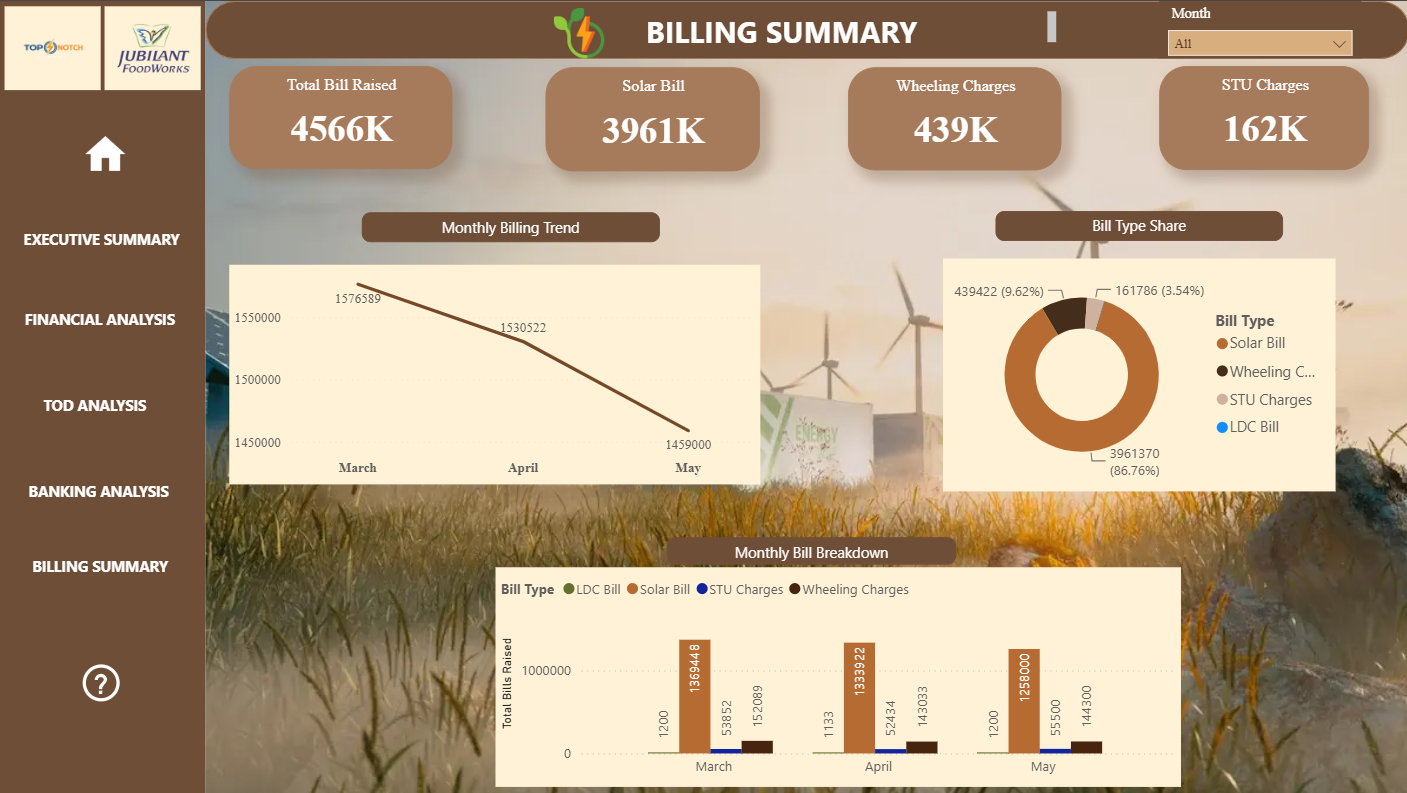

What the dashboard file says about the page in this screenshot:
{"tool":"powerbi","page":{"name":"billing summary","canvas":[1280,720],"ordinal":4},"visuals":[{"type":"card","title":"Total Bill Raised","fields":{"Values":["Billing Summary.Total Bills Raised"]},"box":[210,58.8,202.5,93.8],"z":0},{"type":"card","title":"Solar Bill","fields":{"Values":["Billing Summary.Solar Bill Amount"]},"box":[496.5,59.9,194.4,94.2],"z":1000},{"type":"card","title":"Wheeling Charges","fields":{"Values":["Billing Summary.Wheeling Charges Amount"]},"box":[771.2,60,193.8,93.8],"z":2000},{"type":"lineChart","title":"Jobs Created with each funding source","fields":{"Y":["Billing Summary.Total Bills Raised"],"Category":["Billing Summary.Month.Variation.Date Hierarchy.Month"]},"box":[209.9,238.9,481.4,199.1],"z":3000},{"type":"card","title":"STU Charges","fields":{"Values":["Billing Summary.STU Charges Amount"]},"box":[1052.9,58.7,190.8,94.2],"z":4000},{"type":"shape","box":[188,0,1092,52.6],"z":5000},{"type":"textbox","box":[904.9,190.8,260.5,26.9],"z":6000},{"type":"textbox","box":[330.2,192,270.2,26.9],"z":7000},{"type":"slicer","fields":{"Values":["Billing Summary.Month"]},"box":[1053.4,0,183.4,52.3],"z":8000},{"type":"textbox","box":[463.5,4.9,501.4,41.6],"z":9000},{"type":"image","box":[23.9,0,63.8,58.5],"z":10000},{"type":"shape","box":[0,0,188.3,720.2],"z":11000},{"type":"image","box":[72.5,113.3,50,51.4],"z":12000},{"type":"actionButton","box":[47.7,102.7,100.3,77],"z":13000},{"type":"actionButton","box":[12.5,190.5,164.3,54.3],"z":14000},{"type":"actionButton","box":[13.9,339.1,164.3,54.3],"z":15000},{"type":"actionButton","box":[12.5,486.2,164.3,52.9],"z":16000},{"type":"textbox","box":[17.9,201.9,154.3,32.9],"z":17000},{"type":"textbox","box":[36.5,352.6,117.1,38.6],"z":18000},{"type":"textbox","box":[26.5,499.1,137.1,28.6],"z":19000},{"type":"actionButton","box":[71.1,596.2,50,44.3],"z":20000},{"type":"actionButton","box":[11.1,417.6,164.3,52.9],"z":21000},{"type":"textbox","box":[22.2,430.8,145.7,28.6],"z":22000},{"type":"actionButton","box":[8.1,262.3,165.3,54.3],"z":23000},{"type":"textbox","box":[19.3,274.4,151.4,38.6],"z":24000},{"type":"image","box":[1.2,0,96.6,85.6],"z":25000},{"type":"image","box":[91.4,0,97.1,85.7],"z":26000},{"type":"textbox","box":[606.2,486.2,262.5,25],"z":27000},{"type":"donutChart","fields":{"Category":["Billing Summary.Bill Type"],"Y":["Billing Summary.Total Bills Raised"]},"box":[856.6,234,355.9,211.1],"z":28000},{"type":"clusteredColumnChart","fields":{"Category":["Billing Summary.Month.Variation.Date Hierarchy.Month"],"Y":["Billing Summary.Total Bills Raised"],"Series":["Billing Summary.Bill Type"]},"box":[451.2,513.9,621.3,199.1],"z":29000},{"type":"image","box":[495.7,0,62.9,58.6],"z":34000}]}

Visuals, with their boxes in screenshot pixels (x1, y1, x2, y2), scaled from the page's 1280x720 canvas onto the 1407x793 screenshot:
"Total Bill Raised" card: {"left": 231, "top": 65, "right": 453, "bottom": 168}
"Solar Bill" card: {"left": 546, "top": 66, "right": 759, "bottom": 170}
"Wheeling Charges" card: {"left": 848, "top": 66, "right": 1061, "bottom": 169}
"Jobs Created with each funding source" lineChart: {"left": 231, "top": 263, "right": 760, "bottom": 482}
"STU Charges" card: {"left": 1157, "top": 65, "right": 1367, "bottom": 168}
shape: {"left": 207, "top": 0, "right": 1406, "bottom": 58}
textbox: {"left": 995, "top": 210, "right": 1281, "bottom": 240}
textbox: {"left": 363, "top": 211, "right": 660, "bottom": 241}
slicer - Billing Summary.Month: {"left": 1158, "top": 0, "right": 1360, "bottom": 58}
textbox: {"left": 509, "top": 5, "right": 1061, "bottom": 51}
image: {"left": 26, "top": 0, "right": 96, "bottom": 64}
shape: {"left": 0, "top": 0, "right": 207, "bottom": 792}
image: {"left": 80, "top": 125, "right": 135, "bottom": 181}
actionButton: {"left": 52, "top": 113, "right": 163, "bottom": 198}
actionButton: {"left": 14, "top": 210, "right": 194, "bottom": 270}
actionButton: {"left": 15, "top": 373, "right": 196, "bottom": 433}
actionButton: {"left": 14, "top": 535, "right": 194, "bottom": 594}
textbox: {"left": 20, "top": 222, "right": 189, "bottom": 259}
textbox: {"left": 40, "top": 388, "right": 169, "bottom": 431}
textbox: {"left": 29, "top": 550, "right": 180, "bottom": 581}
actionButton: {"left": 78, "top": 657, "right": 133, "bottom": 705}
actionButton: {"left": 12, "top": 460, "right": 193, "bottom": 518}
textbox: {"left": 24, "top": 474, "right": 185, "bottom": 506}
actionButton: {"left": 9, "top": 289, "right": 191, "bottom": 349}
textbox: {"left": 21, "top": 302, "right": 188, "bottom": 345}
image: {"left": 1, "top": 0, "right": 108, "bottom": 94}
image: {"left": 100, "top": 0, "right": 207, "bottom": 94}
textbox: {"left": 666, "top": 535, "right": 955, "bottom": 563}
donutChart - Billing Summary.Bill Type x Billing Summary.Total Bills Raised: {"left": 942, "top": 258, "right": 1333, "bottom": 490}
clusteredColumnChart - Billing Summary.Month.Variation.Date Hierarchy.Month x Billing Summary.Total Bills Raised: {"left": 496, "top": 566, "right": 1179, "bottom": 785}
image: {"left": 545, "top": 0, "right": 614, "bottom": 65}
